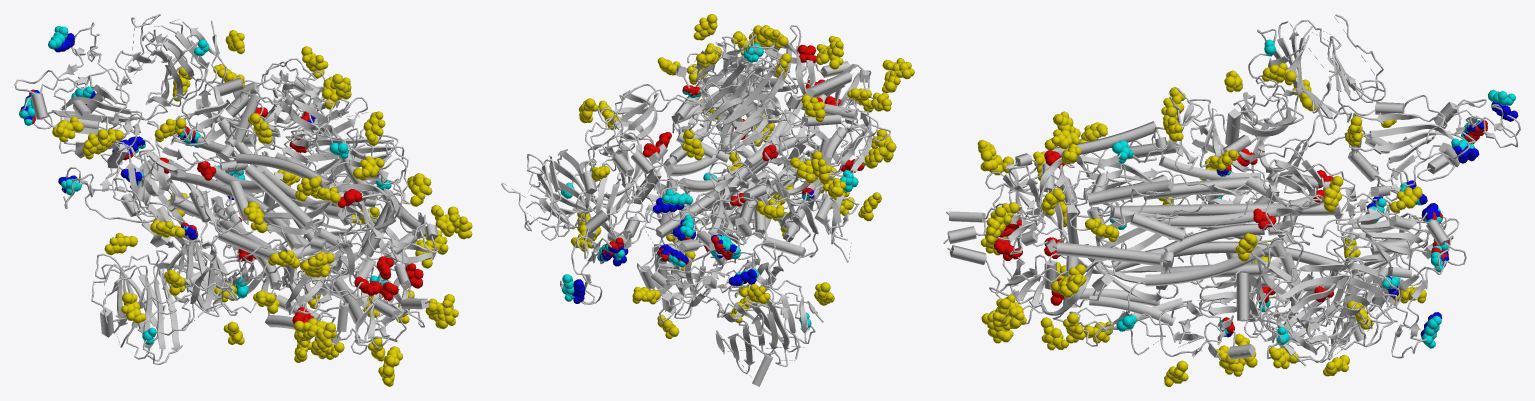
The model's file is spike2.glb.
3 views of the same model, side by side, from view 1: azimuth 30°, elevation 25°; view 2: azimuth 150°, elevation 25°; view 3: azimuth 270°, elevation 25° (orthographic). The views are drawn at different scales.
Parts seen in each view (by area): view 1: ribbons, atoms (×3); view 2: ribbons, atoms (×3); view 3: ribbons, atoms (×3).
Part boxes in pixels (x1,y1,x2,y2): ribbons: (14,14,438,364); atoms (×3): (19,26,472,386); ribbons: (501,25,890,386); atoms (×3): (560,14,914,338); ribbons: (943,14,1520,365); atoms (×3): (977,39,1518,386).
Bounding box in the file's own units: 118 × 115 × 178.
